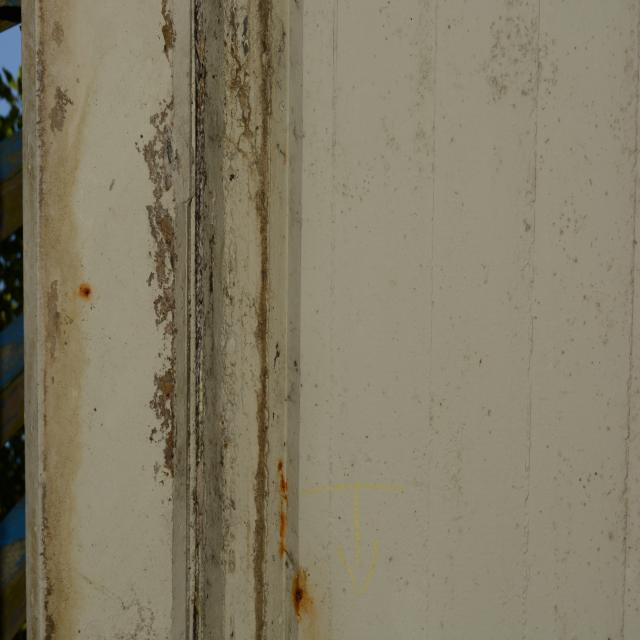corrosion: (276, 456, 330, 634), (73, 270, 106, 302), (282, 142, 288, 167)
